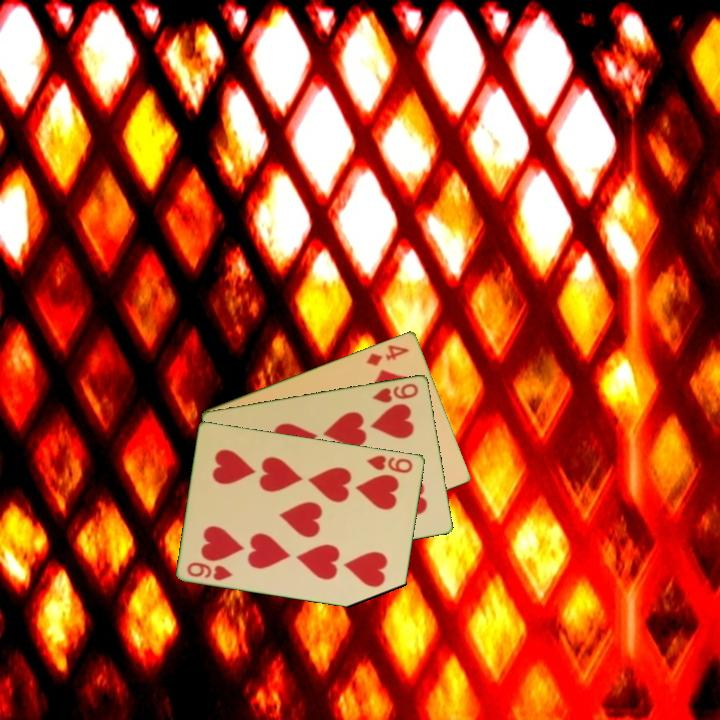4d: (363, 341, 412, 369)
9h: (369, 379, 421, 406), (363, 451, 416, 476), (184, 558, 236, 583)
